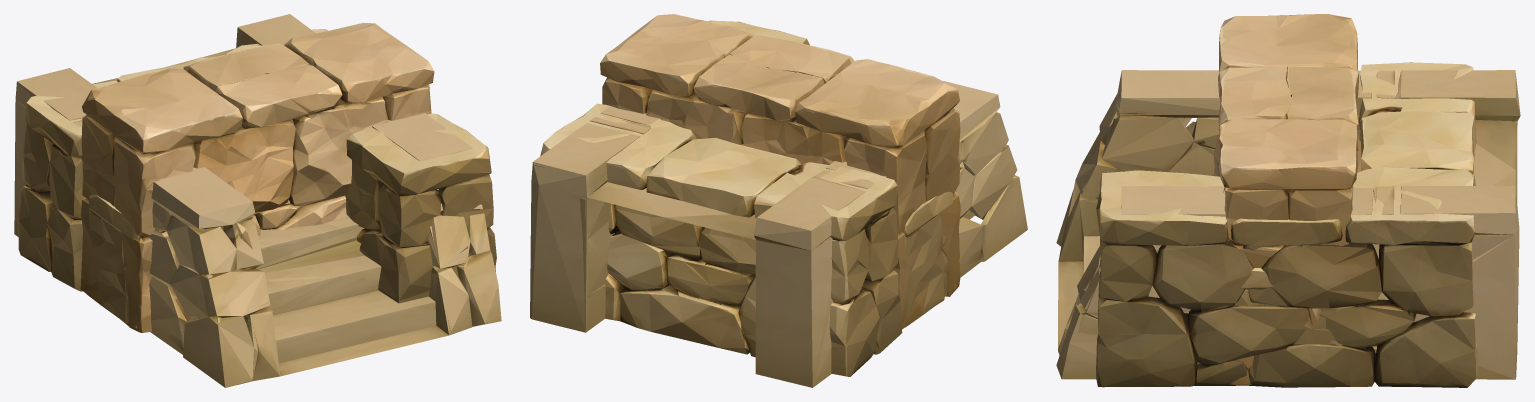
File: muretas.glb
3 views of the same model, side by side, from view 1: azimuth 30°, elevation 25°; view 2: azimuth 150°, elevation 25°; view 3: azimuth 270°, elevation 25° (orthographic). The views are drawn at different scales.
Parts seen in each view (by area): view 1: Mureta_Escada, Mureta_Alta, Mureta_Canto, Mureta_Baixa; view 2: Mureta_Escada, Mureta_Canto, Mureta_Alta, Mureta_Baixa; view 3: Mureta_Canto, Mureta_Escada, Mureta_Alta, Mureta_Baixa.
Boxes of the visible parts, x1=… form: Mureta_Escada: x1=14, y1=14, x2=501, y2=387; Mureta_Alta: x1=80, y1=22, x2=434, y2=332; Mureta_Canto: x1=18, y1=29, x2=496, y2=303; Mureta_Baixa: x1=86, y1=195, x2=300, y2=328; Mureta_Escada: x1=530, y1=33, x2=1027, y2=387; Mureta_Canto: x1=540, y1=20, x2=902, y2=376; Mureta_Alta: x1=600, y1=14, x2=961, y2=329; Mureta_Baixa: x1=902, y1=191, x2=956, y2=327; Mureta_Canto: x1=1096, y1=62, x2=1477, y2=387; Mureta_Escada: x1=1056, y1=70, x2=1520, y2=379; Mureta_Alta: x1=1213, y1=14, x2=1361, y2=384; Mureta_Baixa: x1=1237, y1=268, x2=1339, y2=344.
Size of the model in its own units: 2.11 by 1.32 by 2.51.
5 materials, 5 textured.
